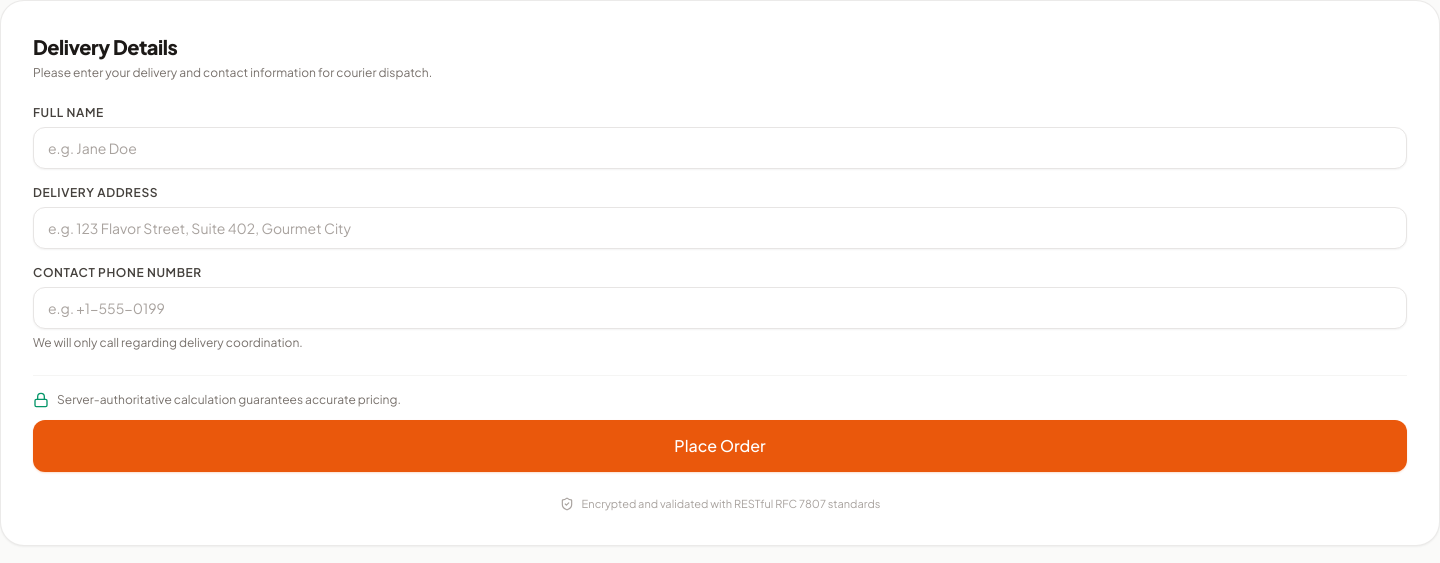
Test case: CheckoutForm Validation › rejects invalid phone numbers
Step 1. Type "Jane Doe" into the field labelled "Full Name" → (720, 148), box [33,127,1407,169]
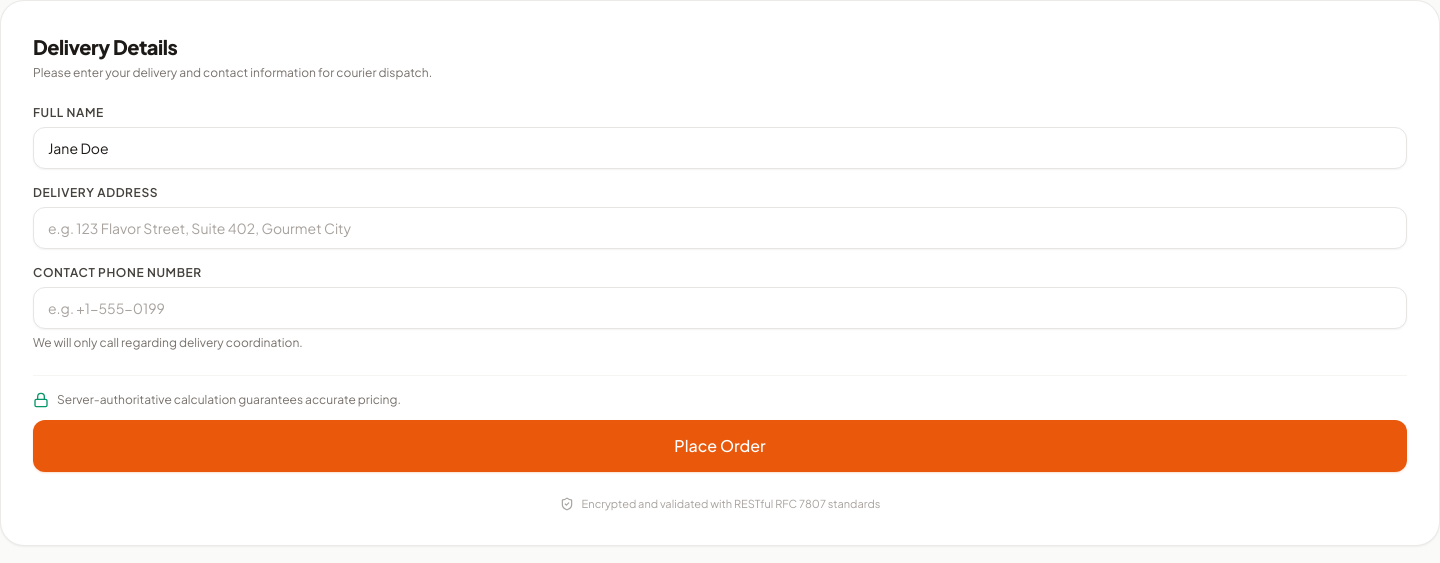
Step 2. Type "123 Test Street" into the field labelled "Delivery Address" → (720, 228), box [33,207,1407,249]
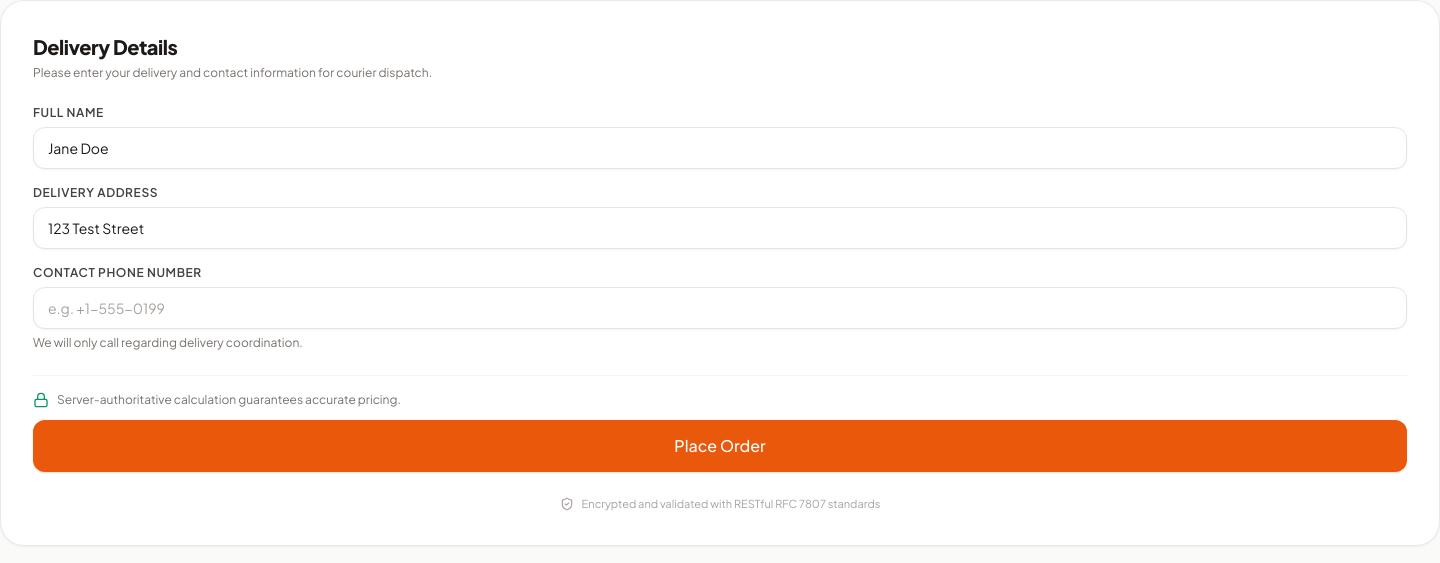
Step 3. Type "invalid-phone-xyz" into the field labelled "Contact Phone Number" → (720, 308), box [33,287,1407,329]
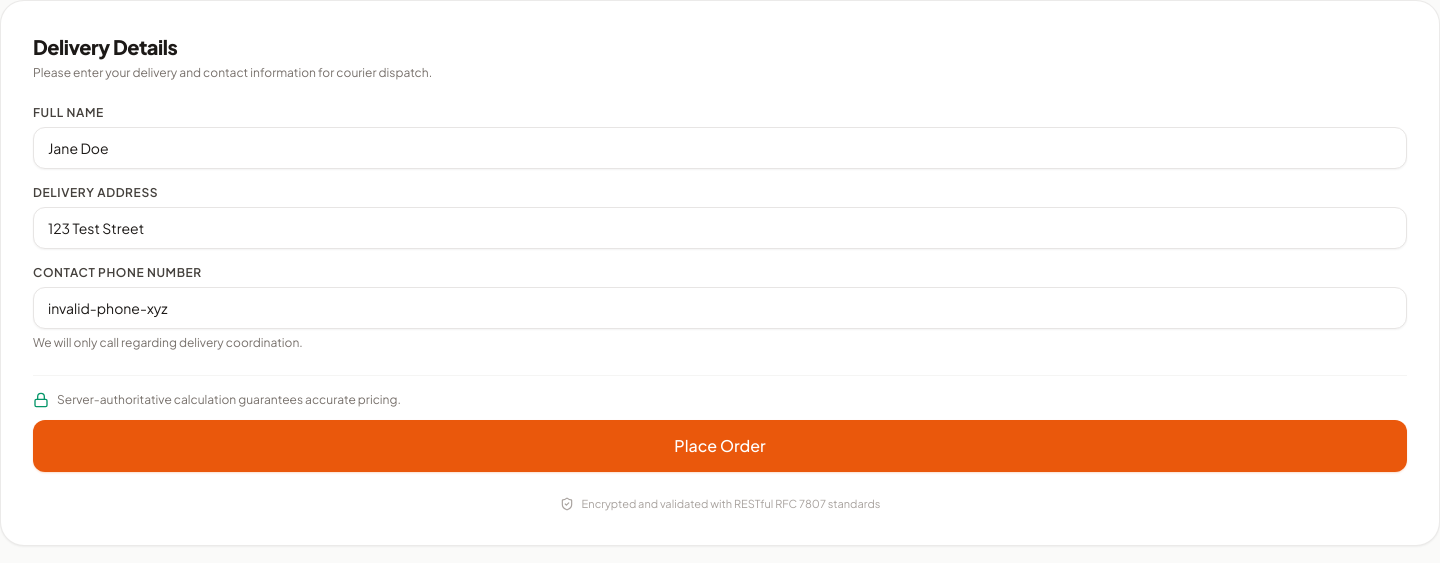
Step 4. Click the button "Place Order" → (720, 446), box [33,420,1407,472]
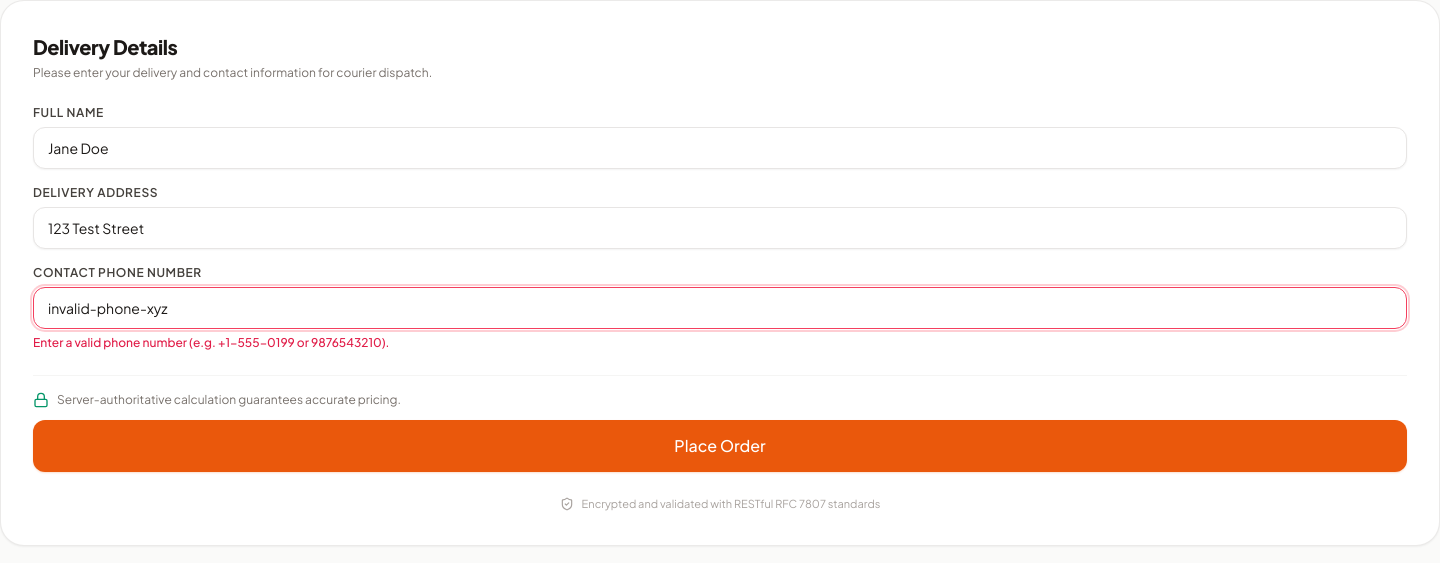
Now the text "Enter a valid phone number (e.g. +1-555-0199 or 9876543210)." is shown, box [33,335,389,350]
